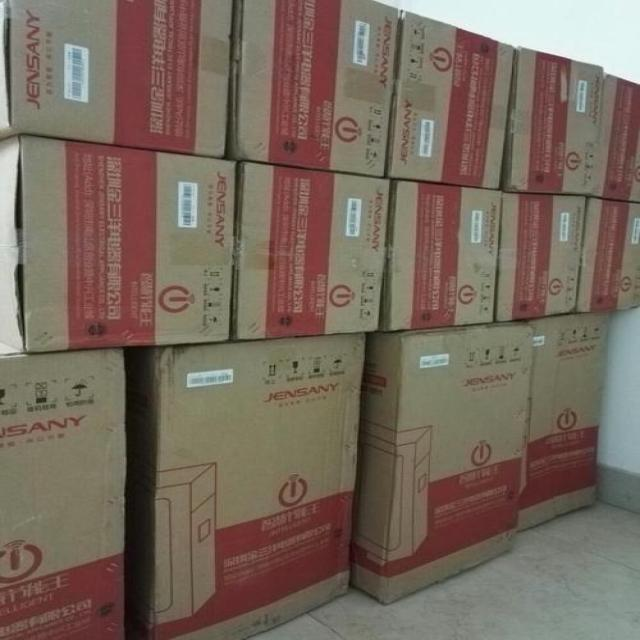box: (121, 336, 365, 639), (0, 132, 233, 353), (353, 323, 536, 603), (0, 340, 133, 639), (0, 1, 240, 155), (230, 1, 402, 176), (230, 161, 389, 341), (385, 13, 516, 190), (518, 310, 616, 533), (381, 181, 502, 332), (506, 47, 600, 197), (496, 191, 586, 321), (577, 200, 639, 312), (593, 69, 639, 203)
